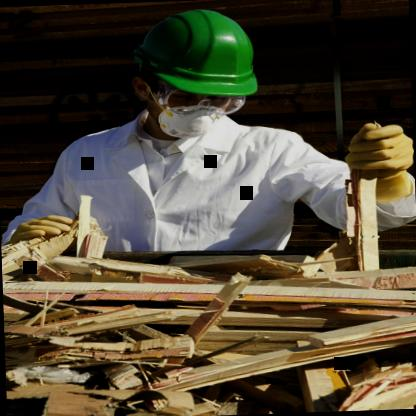helmet: (112, 0, 286, 142)
